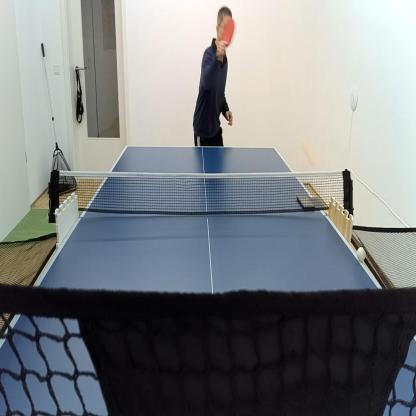Ball: (304, 139, 316, 168), (357, 248, 366, 262)
